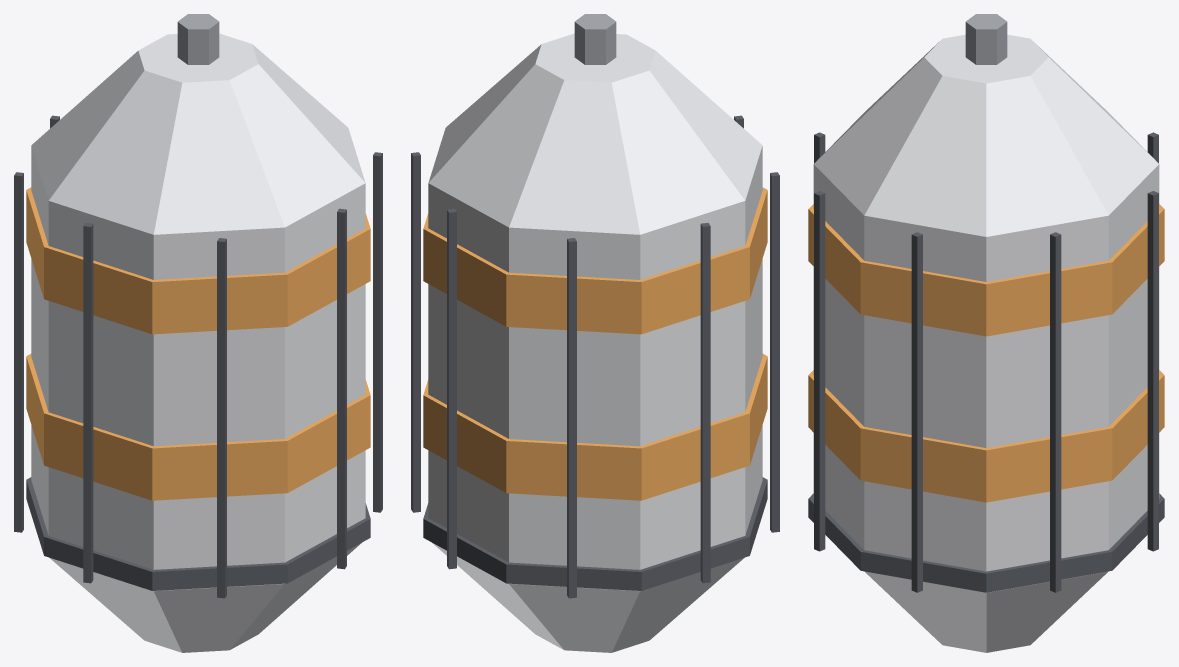
The model's file is tank_large.glb.
The picture shows the model from 3 angles, left to right: view 1: azimuth 30°, elevation 25°; view 2: azimuth 150°, elevation 25°; view 3: azimuth 270°, elevation 25°; orthographic projection.
Visible parts, largest first — view 1: tank_large; view 2: tank_large; view 3: tank_large.
Boxes of the visible parts, bbox=[...] form: tank_large: bbox=[14, 14, 382, 652]; tank_large: bbox=[411, 14, 779, 652]; tank_large: bbox=[808, 14, 1164, 652].
Size of the model in its own units: 1.36 by 2.55 by 1.36.
